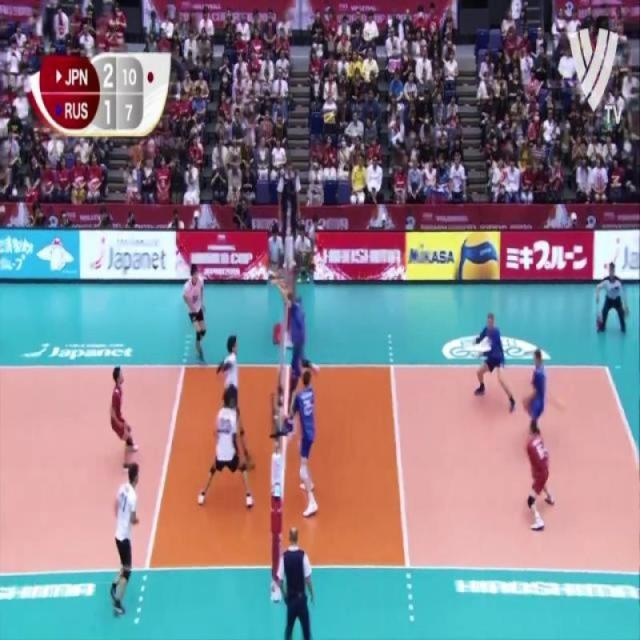volleyball: (459, 232, 500, 280), (268, 270, 283, 285)
